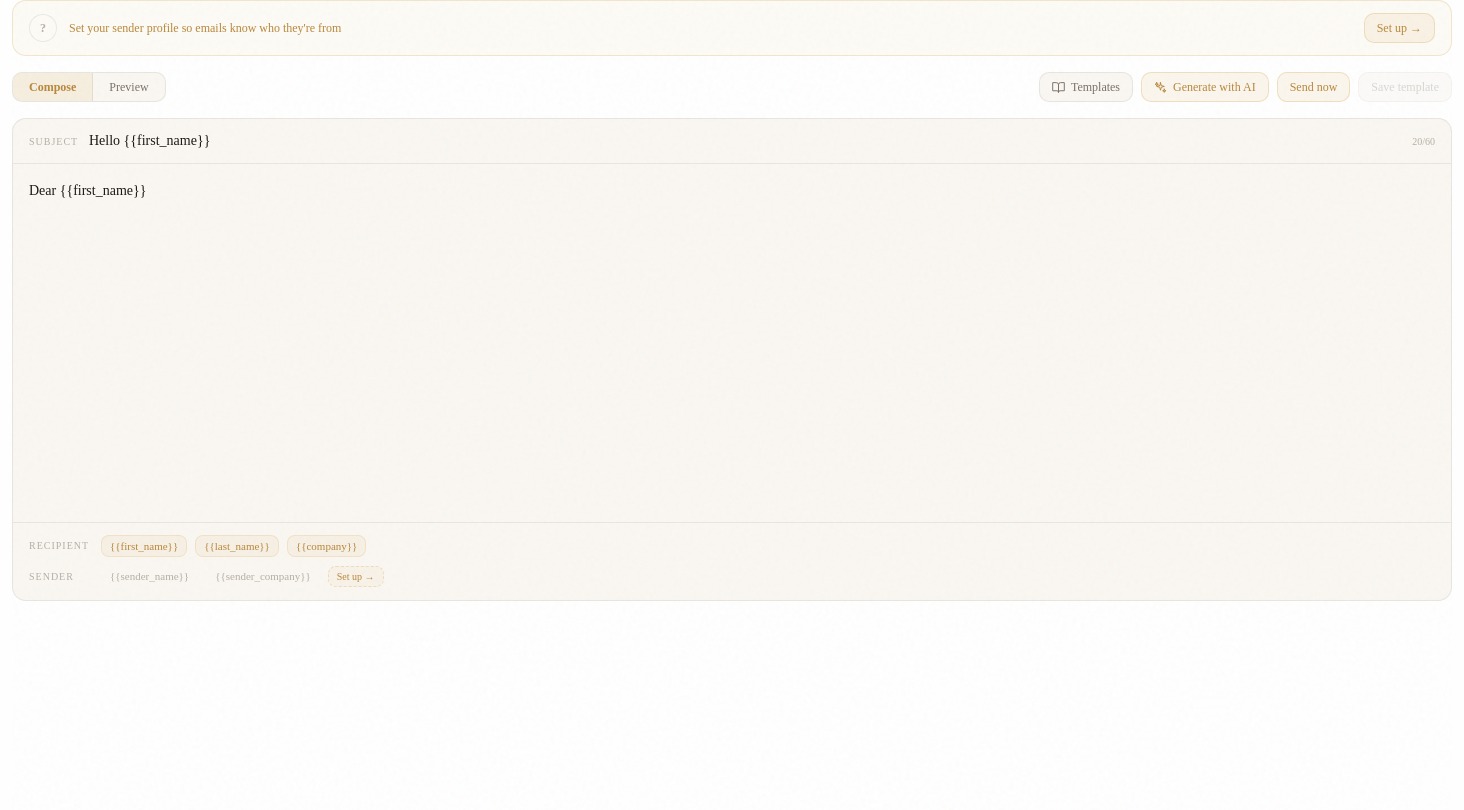
Test: EmailComposer › substitutes {{first_name}} with contact name in preview
Click the button "preview": (129, 87) [93, 73, 165, 101]
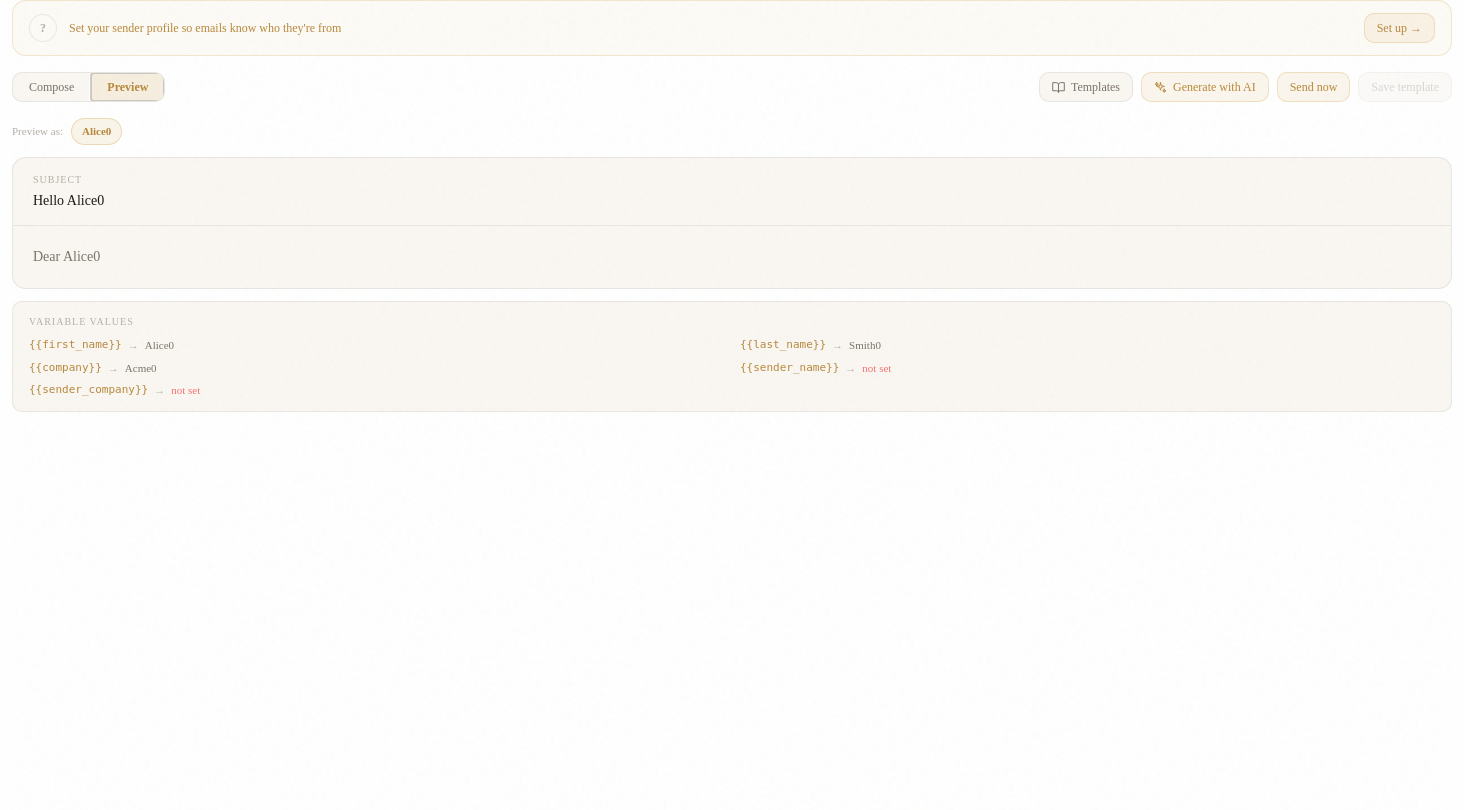
Expected: the text "Hello Alice0" is shown, [33, 192, 104, 208]
